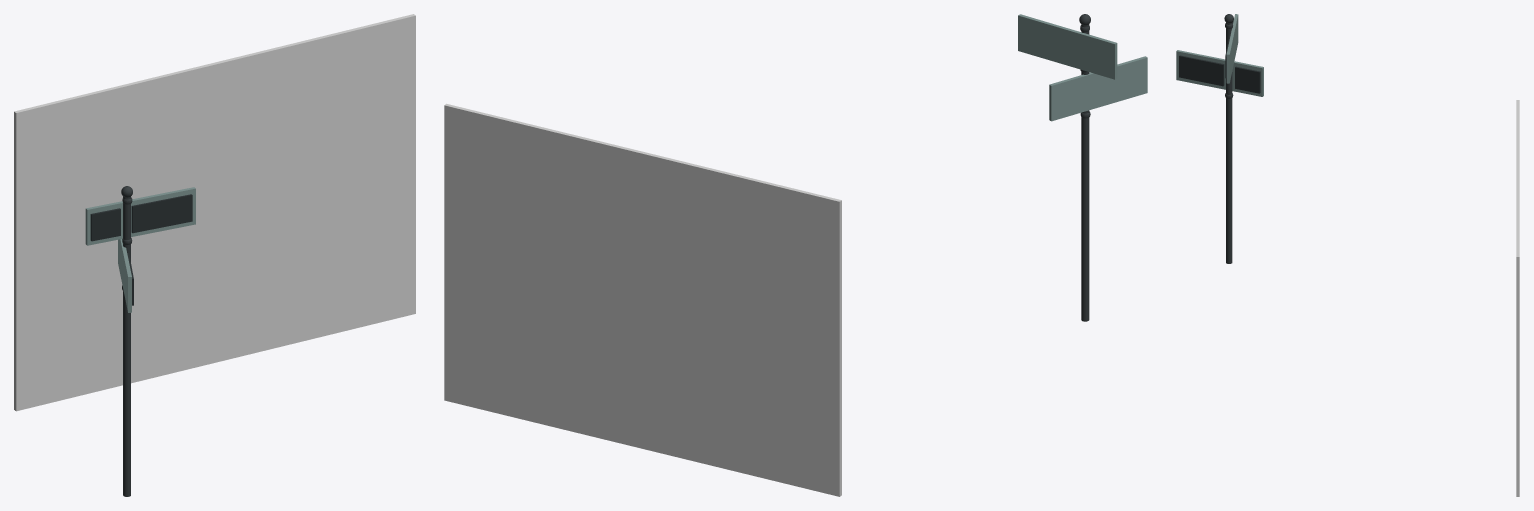
The model's file is cartelF.glb.
3 renders of one model, left to right at view 1: azimuth 30°, elevation 25°; view 2: azimuth 150°, elevation 25°; view 3: azimuth 270°, elevation 25°, orthographic. The views are drawn at different scales.
Visible parts, largest first — view 1: Cube.010, Cylinder, Cube.002, Cube, Cube.007, Cube.001; view 2: Cube.010, Cube, Cube.001, Cylinder; view 3: Cube.010, Cylinder, Cube.003, Cube.001, Cube.004, Cube.
Part boxes in pixels (bbox=[...]): Cube.010: bbox=[14, 14, 415, 411]; Cylinder: bbox=[123, 196, 130, 496]; Cube.002: bbox=[131, 194, 192, 233]; Cube: bbox=[85, 187, 195, 245]; Cube.007: bbox=[90, 208, 120, 241]; Cube.001: bbox=[118, 239, 131, 312]; Cube.010: bbox=[444, 103, 841, 496]; Cube: bbox=[1018, 14, 1117, 79]; Cube.001: bbox=[1049, 56, 1147, 121]; Cylinder: bbox=[1081, 24, 1089, 321]; Cube.010: bbox=[1516, 100, 1519, 496]; Cylinder: bbox=[1226, 22, 1232, 263]; Cube.003: bbox=[1179, 55, 1224, 86]; Cube.001: bbox=[1176, 50, 1263, 96]; Cube.004: bbox=[1235, 66, 1260, 93]; Cube: bbox=[1226, 14, 1238, 83].
Size of the model in its own units: 36.69 by 25.9 by 26.96.
